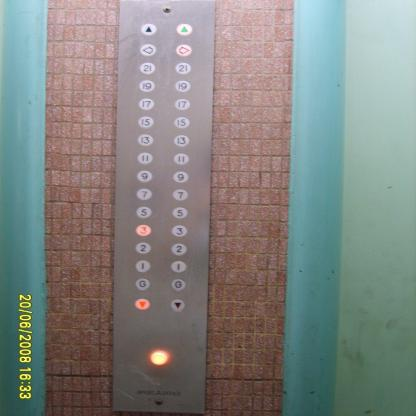1: (133, 258, 152, 273), (169, 260, 188, 274)
11: (136, 151, 154, 165), (172, 152, 190, 166)
13: (172, 133, 191, 148), (136, 133, 154, 147)
15: (136, 115, 155, 129), (172, 115, 191, 129)
17: (172, 97, 192, 112), (136, 97, 155, 111)
19: (172, 79, 192, 93), (137, 79, 156, 93)
2: (134, 240, 152, 255), (169, 242, 188, 256)
21: (138, 61, 156, 75), (174, 61, 192, 75)
3: (134, 223, 152, 238), (170, 224, 189, 238)
5: (170, 205, 189, 220), (134, 205, 153, 219)
7: (134, 187, 154, 201), (171, 188, 190, 202)
9: (172, 169, 190, 184), (135, 169, 154, 183)
G: (168, 277, 187, 292), (133, 277, 152, 291)
down: (168, 298, 187, 312), (133, 297, 152, 311)
empty: (149, 351, 169, 366)
unknown: (139, 42, 158, 57), (174, 43, 193, 57)
up: (139, 22, 158, 37), (174, 22, 193, 37)
